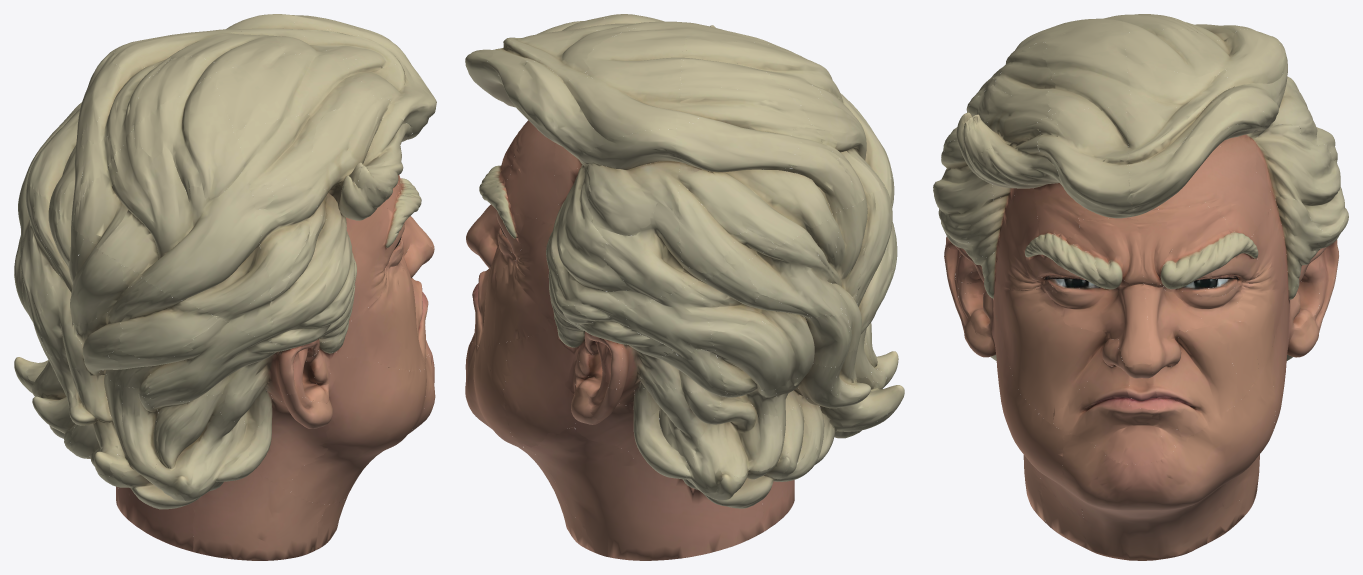
File: trump.glb
3 views of the same model, side by side, from view 1: azimuth 30°, elevation 25°; view 2: azimuth 150°, elevation 25°; view 3: azimuth 270°, elevation 25° (orthographic). The views are drawn at different scales.
Parts seen in each view (by area): view 1: tripo_node_92e823fc-bafa-4604-a642-ba77a376248b; view 2: tripo_node_92e823fc-bafa-4604-a642-ba77a376248b; view 3: tripo_node_92e823fc-bafa-4604-a642-ba77a376248b.
Part boxes in pixels (x1=…): tripo_node_92e823fc-bafa-4604-a642-ba77a376248b: x1=14, y1=14, x2=436, y2=560; tripo_node_92e823fc-bafa-4604-a642-ba77a376248b: x1=465, y1=14, x2=904, y2=560; tripo_node_92e823fc-bafa-4604-a642-ba77a376248b: x1=933, y1=14, x2=1348, y2=560.
Size of the model in its own units: 0.2502 by 0.3 by 0.2354.
1 material, 1 textured.
